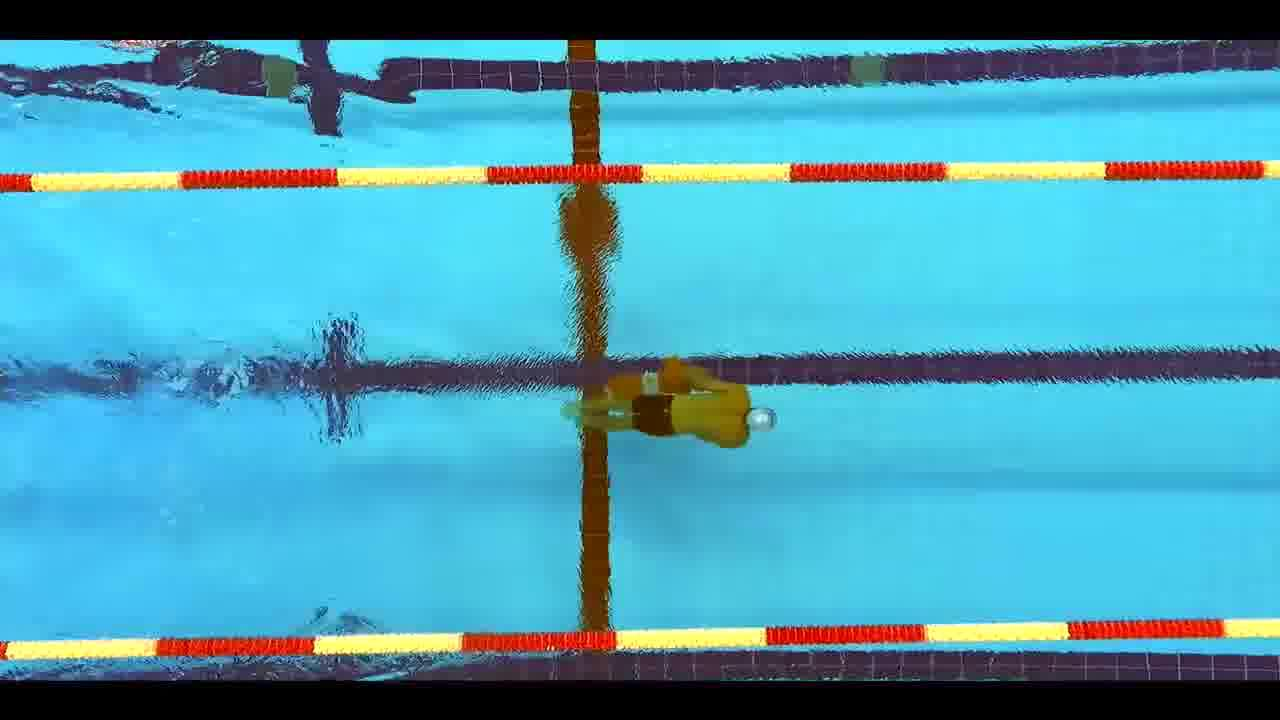swimmer: (560, 377, 798, 449)
